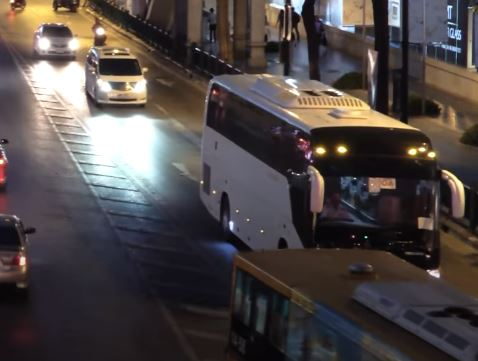Bus: (200, 72, 444, 288), (229, 247, 478, 361)
Car: (84, 44, 148, 107), (33, 22, 78, 59)
Motorcycle: (91, 16, 108, 47)
